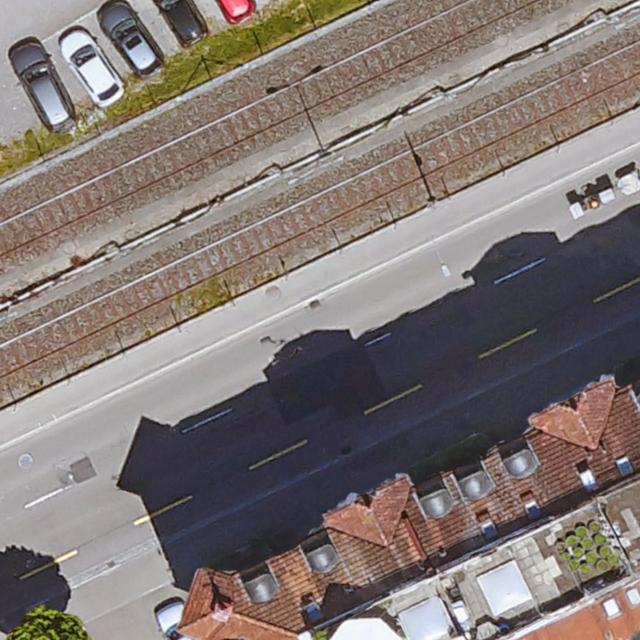tree: (6, 609, 94, 640)
